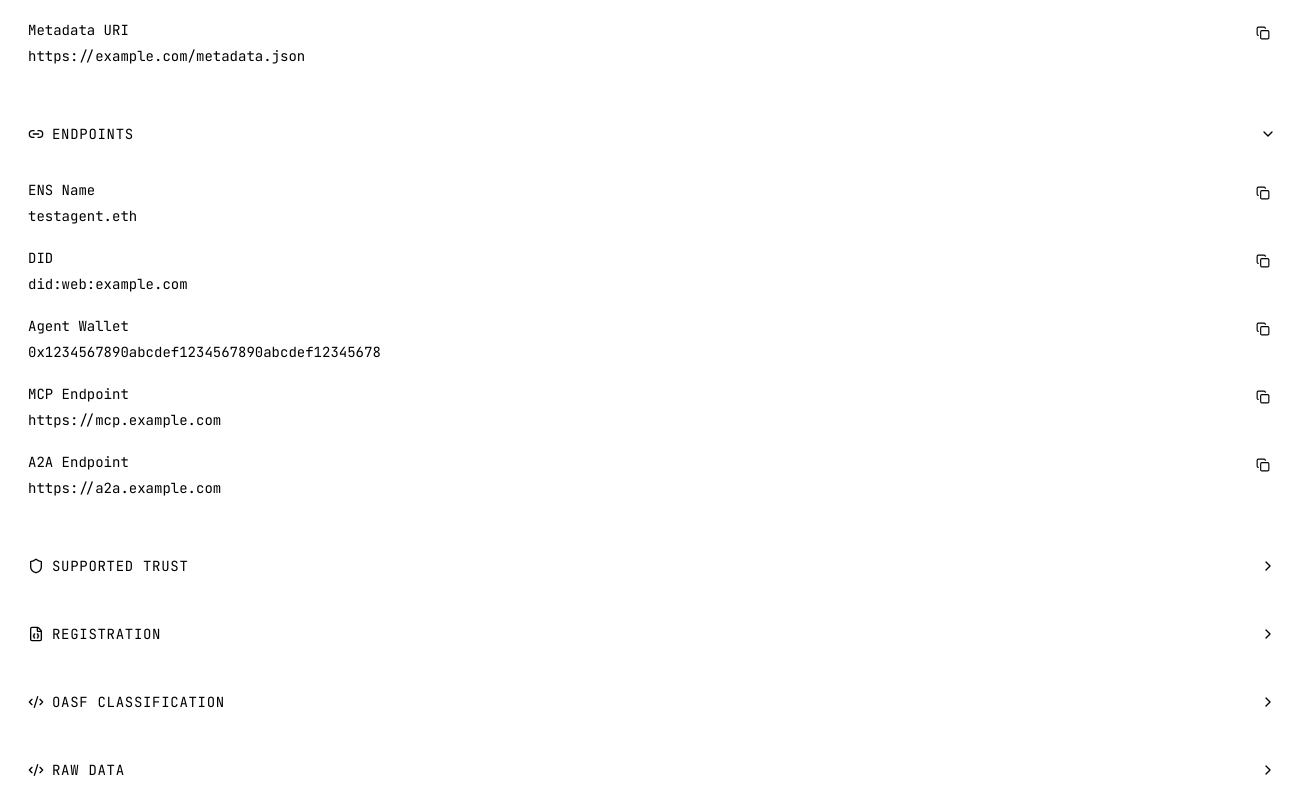
AgentMetadata › registration section › shows active status
(page scrolled)
Click the button "Registration": (107, 634) [12,608,1292,660]
(page scrolled)
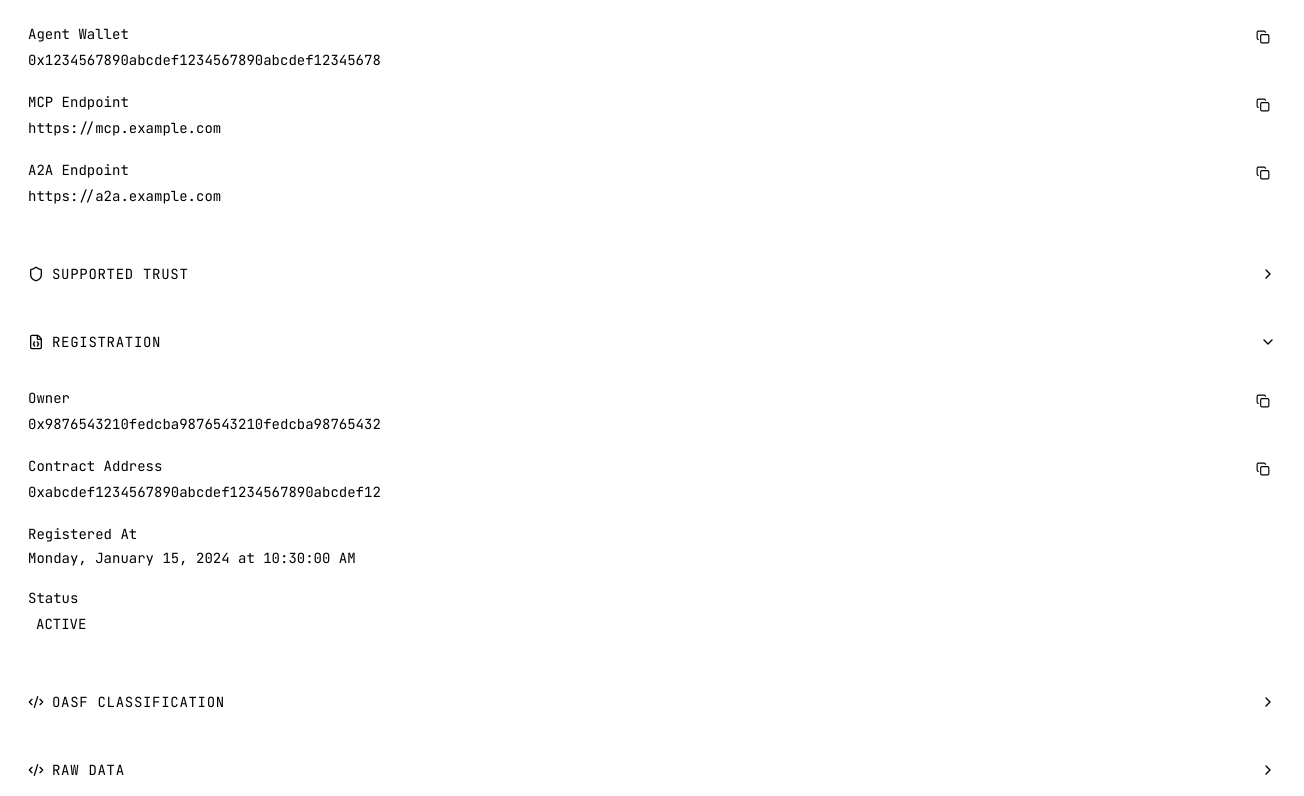
expect the text "ACTIVE" is shown: met, box [36,615,86,633]
